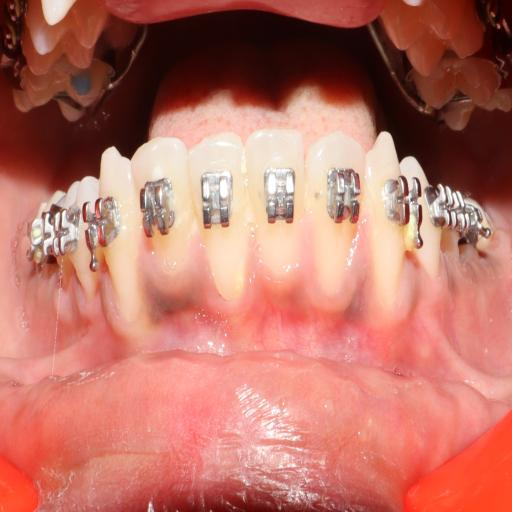correct_brace: (139, 168, 179, 254), (324, 165, 363, 232), (261, 164, 297, 230), (199, 168, 237, 230)
incorrect_brace: (303, 132, 365, 301), (128, 136, 190, 286)
